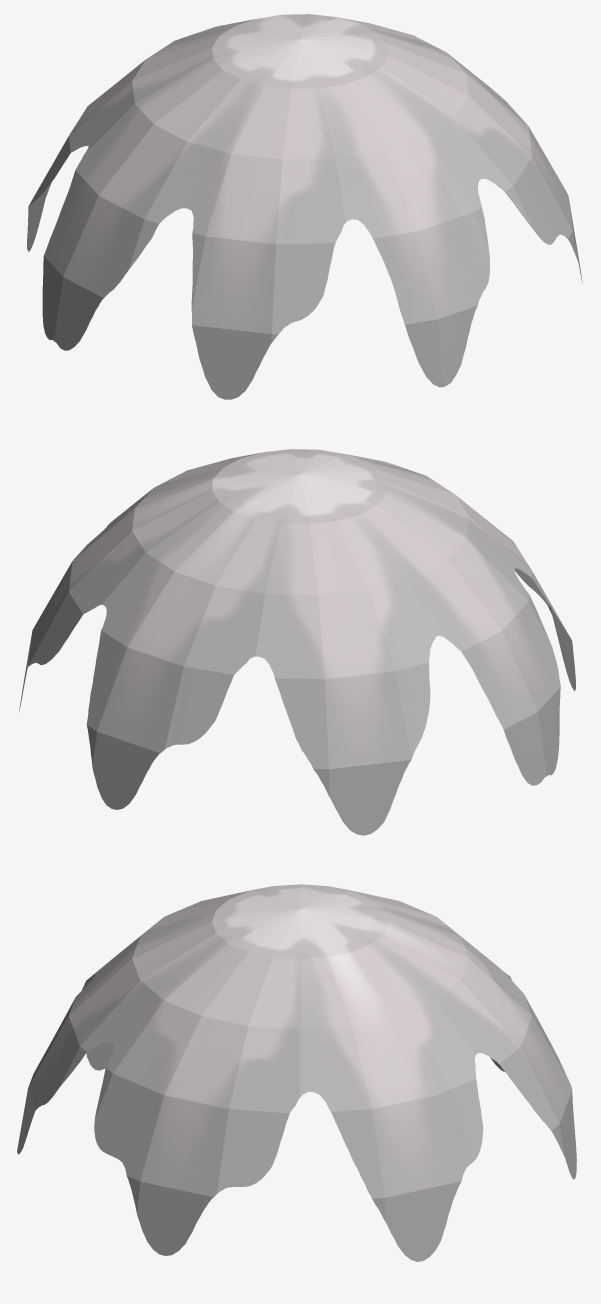
File: 衝撃波.fbx
The picture shows the model from 3 angles, top to bottom: view 1: azimuth 30°, elevation 25°; view 2: azimuth 150°, elevation 25°; view 3: azimuth 270°, elevation 25°; orthographic projection.
Visible parts, largest first — view 1: 球; view 2: 球; view 3: 球.
Boxes of the visible parts, x1,y1,x2,y2 form: 球: (27,14,582,399); 球: (19,449,575,835); 球: (17,884,576,1261).
Bounding box in the file's own units: 200 × 100 × 200.
